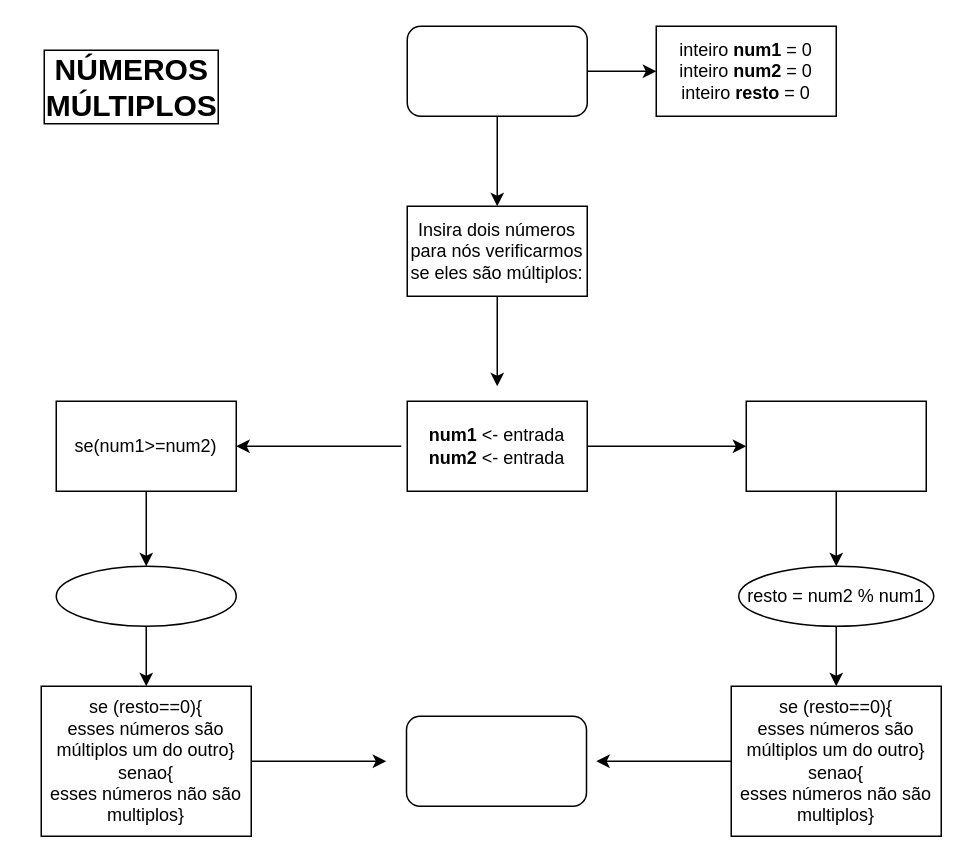
Image size: 968x863. Some labels were removed from this diagram. Each missing label, with the centre of its shape:
"FIM" belongs at point (495, 760).
"INICIO" belongs at point (496, 70).
"resto = num1% num2" belongs at point (145, 595).
"se(num2>num1)" belongs at point (835, 445).
